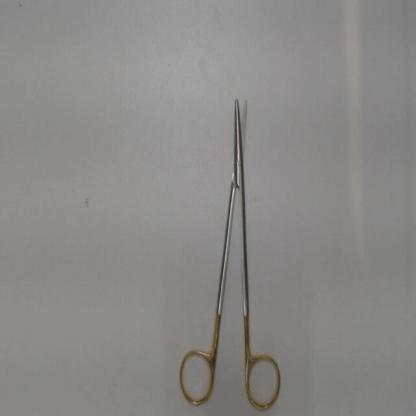7 Metzenbaum Scissors: (176, 89, 285, 413)
